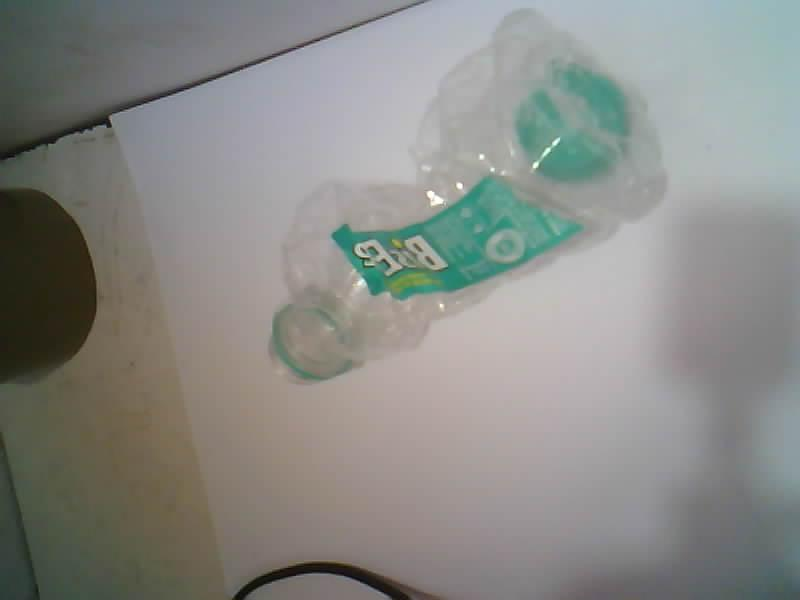non-biodegradable: (270, 10, 666, 380)
